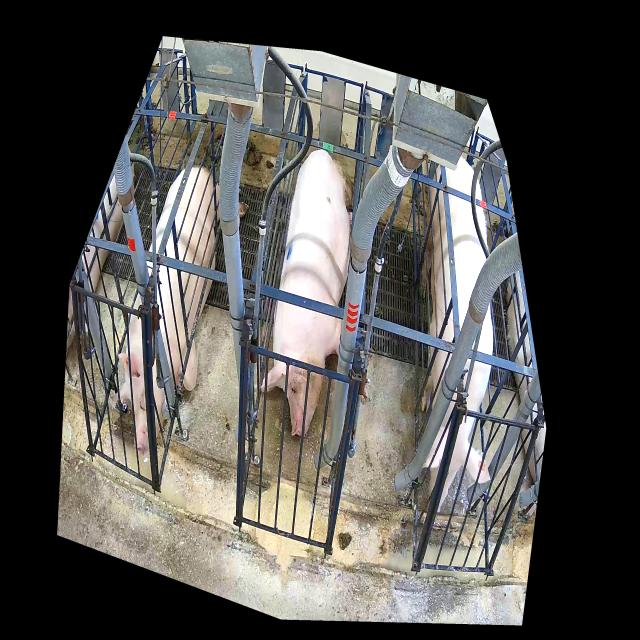pig: (110, 164, 249, 455), (256, 149, 354, 437), (418, 156, 493, 512)
